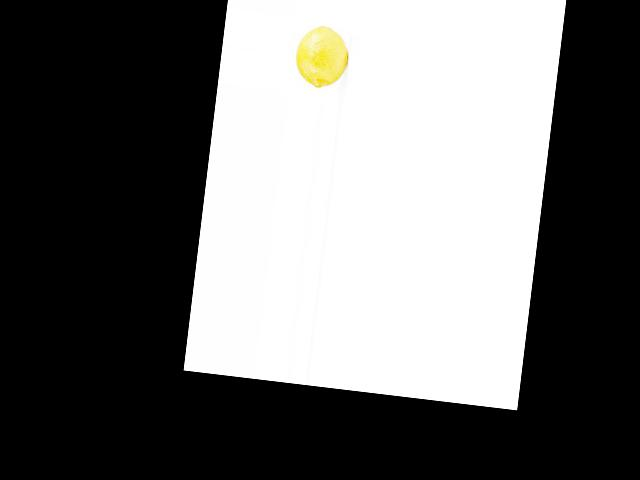lemon: (290, 16, 353, 100)
